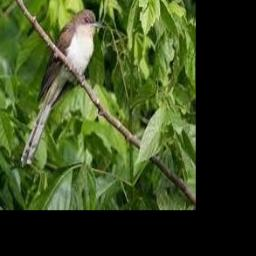Cuckoo: (19, 9, 103, 165)
